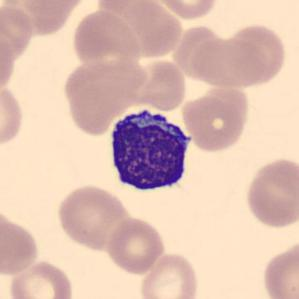Lymphocyte: (104, 102, 196, 198)
RBC: (60, 54, 144, 137), (54, 182, 131, 251), (179, 89, 250, 154), (70, 7, 142, 71), (188, 34, 270, 90), (105, 0, 180, 60), (222, 22, 289, 89), (243, 154, 298, 230), (104, 215, 168, 276), (131, 57, 189, 112), (137, 250, 201, 299), (0, 210, 41, 278), (7, 258, 75, 299), (259, 238, 299, 299), (0, 5, 36, 63), (0, 82, 26, 150), (151, 0, 220, 21), (16, 0, 88, 15), (0, 31, 16, 94)
